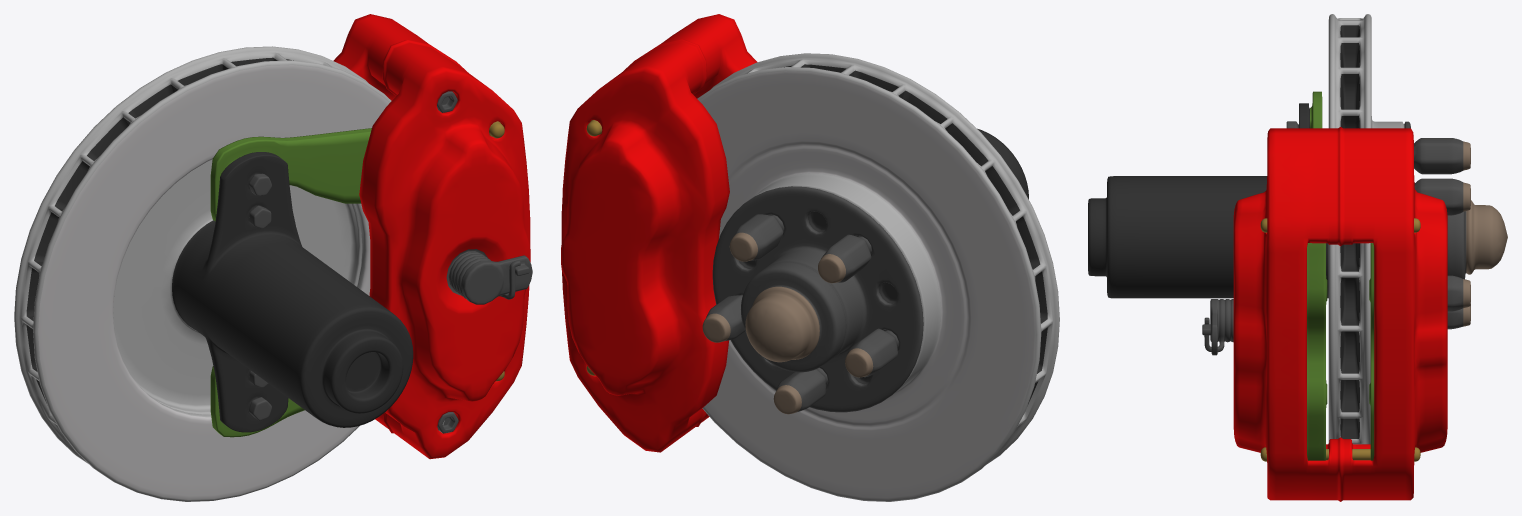
Rendered from brake.glb.
3 views of the same model, side by side, from view 1: azimuth 30°, elevation 25°; view 2: azimuth 150°, elevation 25°; view 3: azimuth 270°, elevation 25° (orthographic). The views are drawn at different scales.
Parts seen in each view (by area): view 1: 13482_Brake_Rotor_v1_L2; view 2: 13482_Brake_Rotor_v1_L2; view 3: 13482_Brake_Rotor_v1_L2.
Part boxes in pixels (left/top/right/bottom): 13482_Brake_Rotor_v1_L2: left=14, top=14, right=532, bottom=501; 13482_Brake_Rotor_v1_L2: left=561, top=14, right=1059, bottom=501; 13482_Brake_Rotor_v1_L2: left=1088, top=14, right=1507, bottom=501.
Bounding box in the file's own units: 11.48 × 10.18 × 9.56.
1 material, 1 textured.
